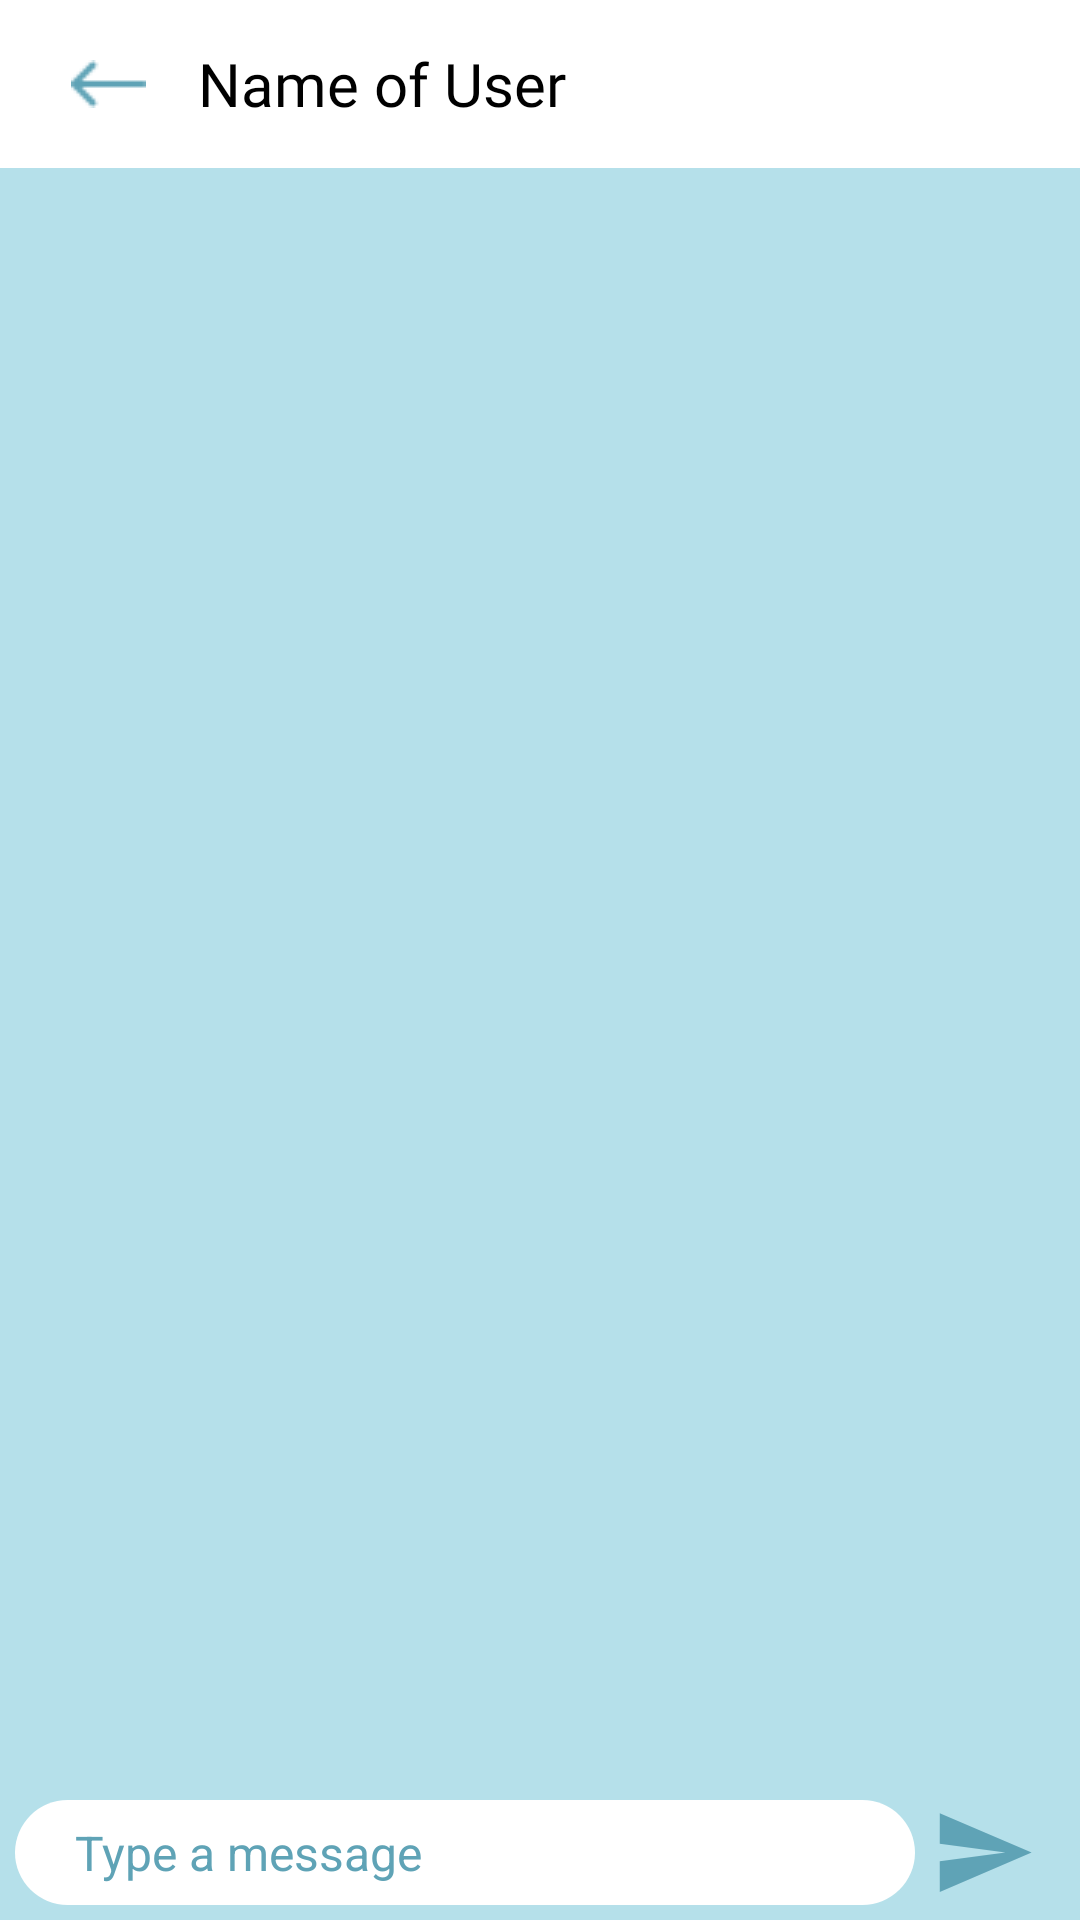

Where icons sit on this 1080px x 1920px app screen, as (x1=x1, y1=y1, x2=x2, y2=y2):
back: (x1=71, y1=60, x2=146, y2=108)
send: (x1=940, y1=1813, x2=1031, y2=1892)
